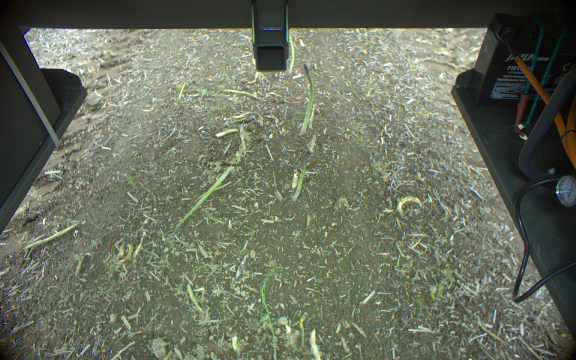aspa: (171, 163, 233, 238), (297, 65, 316, 136), (292, 158, 308, 202), (286, 31, 298, 73), (235, 122, 249, 153)
